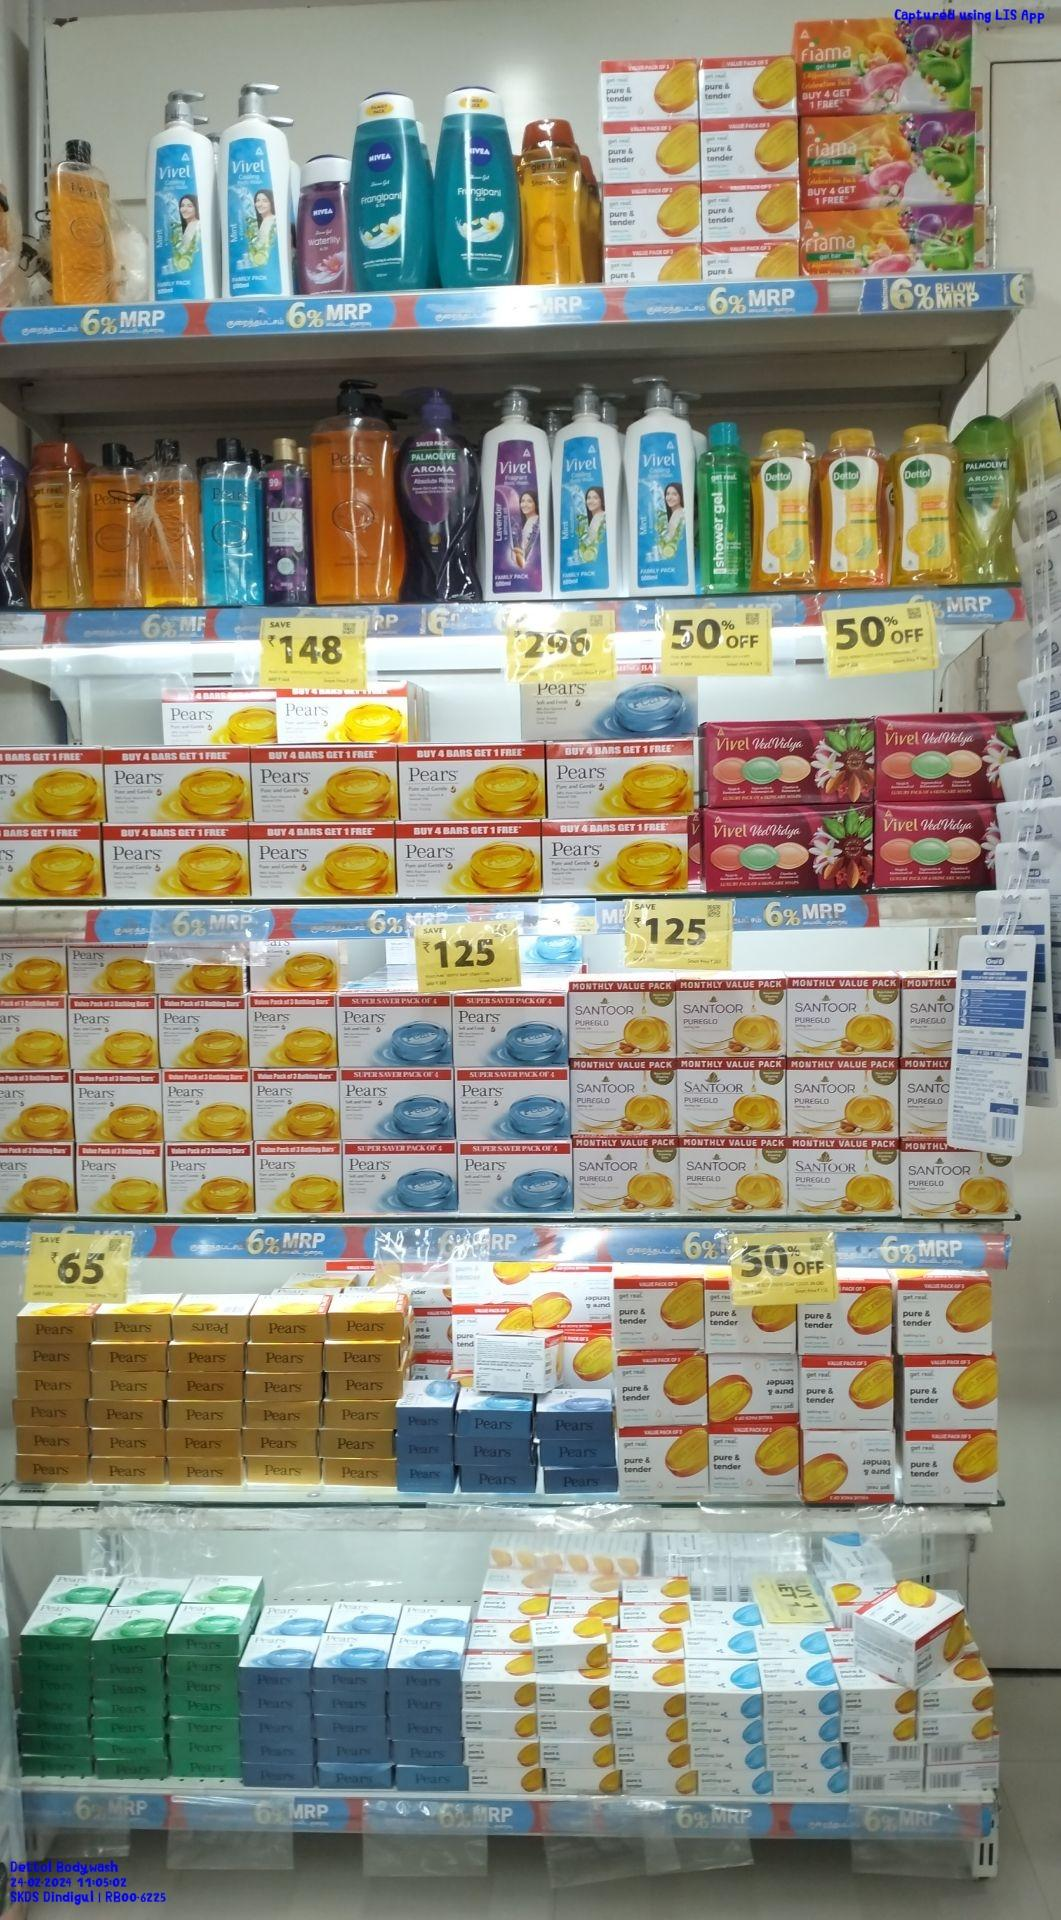Dettol_Bodywash_Refresh: (821, 428, 887, 588), (891, 423, 954, 580), (755, 430, 815, 590)
Get_Real_Shower_Gel_Moisturising_Glycerin_300ML: (520, 118, 587, 285), (27, 439, 86, 611)
Lux_Black_Orchid_Scent_and_Juniper_Oil_Body_Wash_245ML: (261, 439, 311, 603)
Nivea_Shower_Gel_Lemon_and_Oil_250ML: (436, 84, 515, 281), (351, 93, 427, 287)
Palmolive_Aroma_Morning_Tonic_Shower_Gel_250ML: (958, 415, 1018, 583)
Pears_Pure_Glycerin_and_Mint_Extracts_Body_Wash_250ML: (201, 436, 260, 605)
